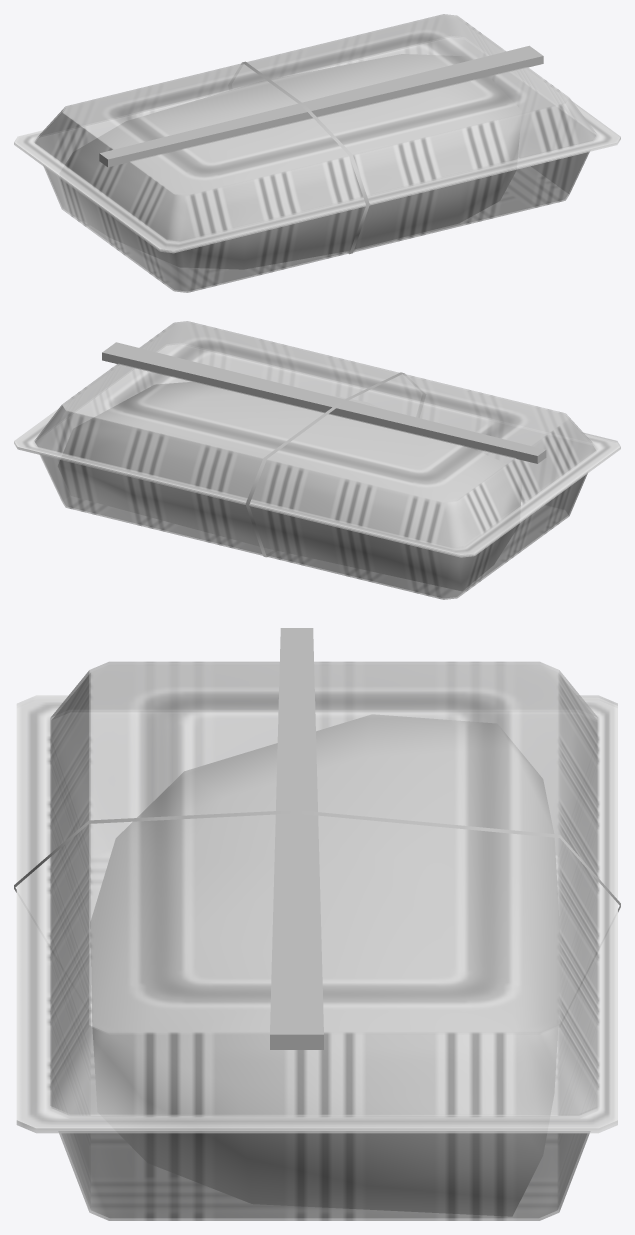
Rendered from jsf_Pack_Okonomiyaki_01.fbx.
The picture shows the model from 3 angles, top to bottom: view 1: azimuth 30°, elevation 25°; view 2: azimuth 150°, elevation 25°; view 3: azimuth 270°, elevation 25°; orthographic projection. The views are drawn at different scales.
Visible parts, largest first — view 1: Lid, Okonomiyaki_03, Pack, DisposableChopsticks_02, DisposableChopsticks_01, RubberBand; view 2: Lid, Okonomiyaki_03, Pack, DisposableChopsticks_01, DisposableChopsticks_02, RubberBand; view 3: Lid, Okonomiyaki_03, Pack, DisposableChopsticks_02, DisposableChopsticks_01, RubberBand.
Part boxes in pixels (x1,y1,x2,y2): Lid: (14,14,620,251); Okonomiyaki_03: (61,54,521,269); Pack: (14,38,620,292); DisposableChopsticks_02: (103,51,543,167); DisposableChopsticks_01: (99,45,535,163); RubberBand: (241,61,369,254); Lid: (14,321,620,556); Okonomiyaki_03: (58,382,522,590); Pack: (14,344,620,599); DisposableChopsticks_01: (102,347,541,463); DisposableChopsticks_02: (109,342,546,460); RubberBand: (245,372,406,557); Lid: (16,661,617,1130); Okonomiyaki_03: (90,714,561,1216); Pack: (16,698,617,1220); DisposableChopsticks_02: (270,628,296,1049); DisposableChopsticks_01: (297,628,323,1049); RubberBand: (14,810,620,912).
Bounding box in the file's own units: 21.3 × 4.73 × 12.62.
